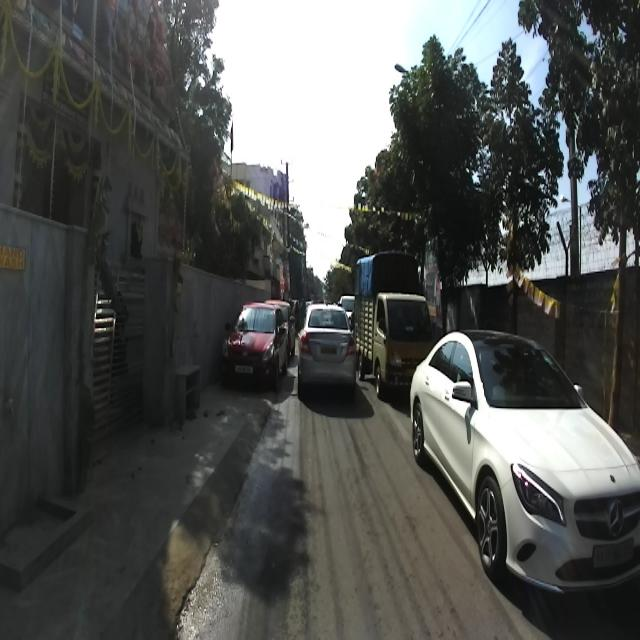Car_Hyundai: (220, 301, 288, 391)
Car_Maruti-Suzuki: (297, 301, 357, 400)
Car_Mercedes_Benz: (408, 331, 640, 601)
truck: (348, 235, 437, 420)
